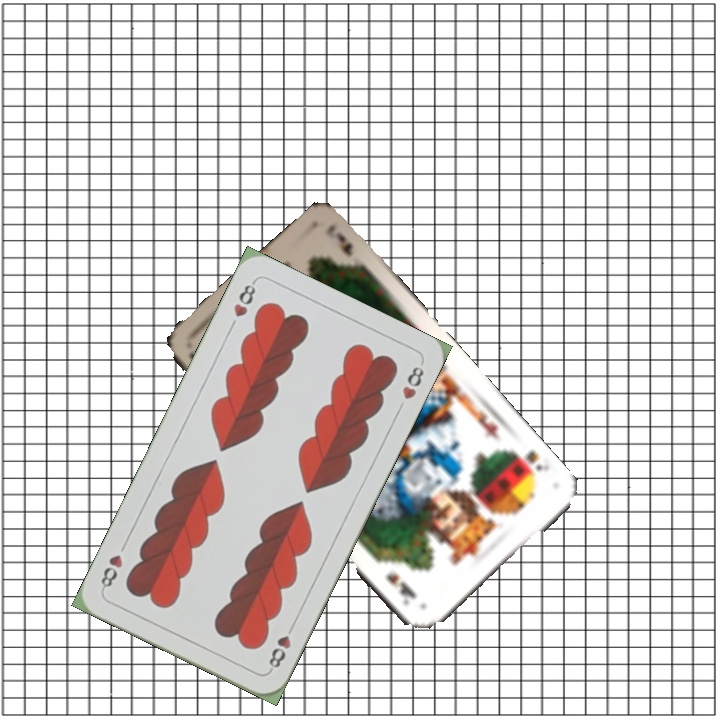H8: (264, 619, 298, 674), (229, 276, 259, 320)
SK: (508, 446, 552, 484)
